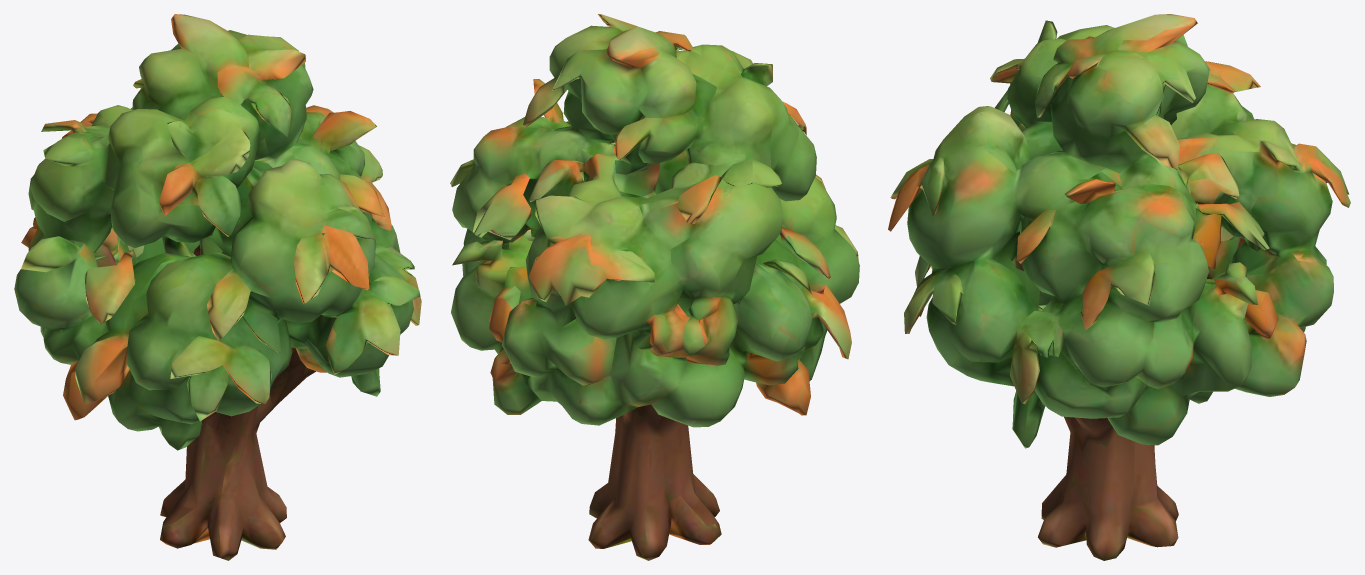
Rendered from persimmon.glb.
3 views of the same model, side by side, from view 1: azimuth 30°, elevation 25°; view 2: azimuth 150°, elevation 25°; view 3: azimuth 270°, elevation 25° (orthographic). The views are drawn at different scales.
Visible parts, largest first — view 1: textured_mesh.obj; view 2: textured_mesh.obj; view 3: textured_mesh.obj.
Boxes of the visible parts, x1,y1,x2,y2 form: textured_mesh.obj: [14, 14, 421, 560]; textured_mesh.obj: [450, 14, 859, 560]; textured_mesh.obj: [888, 14, 1350, 560].
Size of what is drawn, in the model's own units: 2.19 by 2.9 by 2.36.
Materials: 1 (1 with a texture image).
